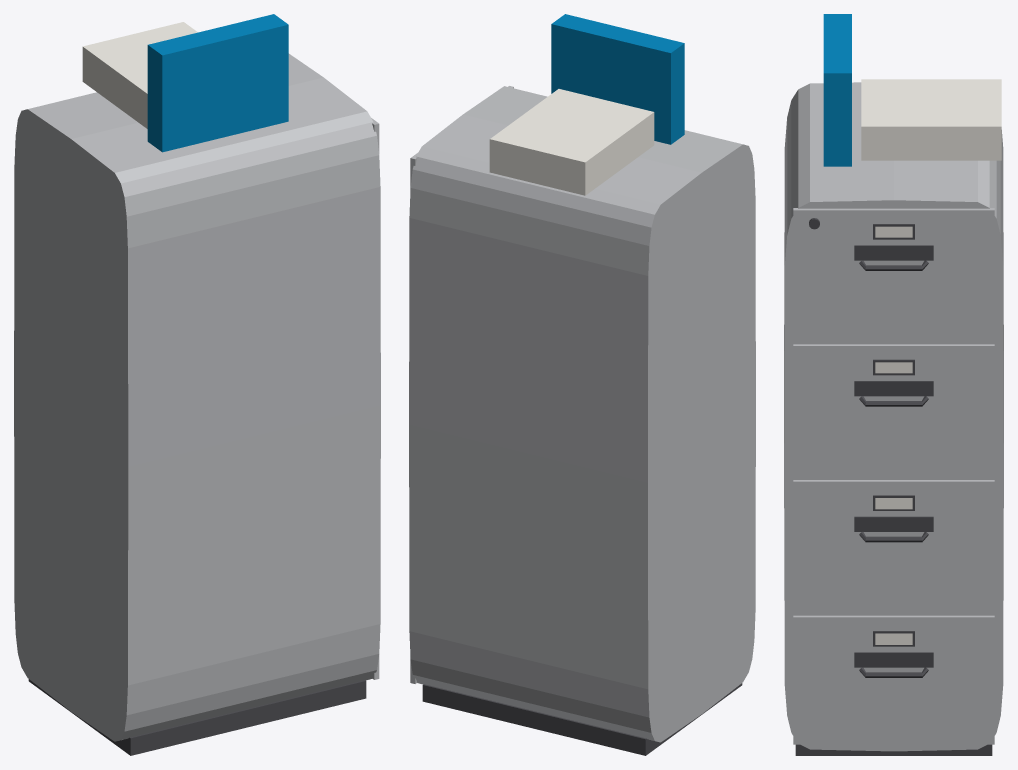
The model's file is SM_Prop_FilingCabinet.fbx.
3 renders of one model, left to right at view 1: azimuth 30°, elevation 25°; view 2: azimuth 150°, elevation 25°; view 3: azimuth 270°, elevation 25°, orthographic. The views are drawn at different scales.
Visible parts, largest first — view 1: SM_Prop_FilingCabinet; view 2: SM_Prop_FilingCabinet; view 3: SM_Prop_FilingCabinet.
Part boxes in pixels (left/top/right/bottom): SM_Prop_FilingCabinet: left=14, top=14, right=380, bottom=755; SM_Prop_FilingCabinet: left=409, top=14, right=755, bottom=755; SM_Prop_FilingCabinet: left=784, top=14, right=1003, bottom=755.
Bounding box in the file's own units: 0.47 × 0.628 × 1.54.
